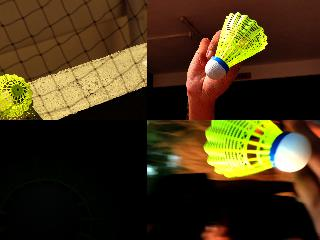shuttlecock: (0, 156, 121, 239), (201, 120, 311, 179), (205, 12, 267, 80), (0, 74, 33, 119)
